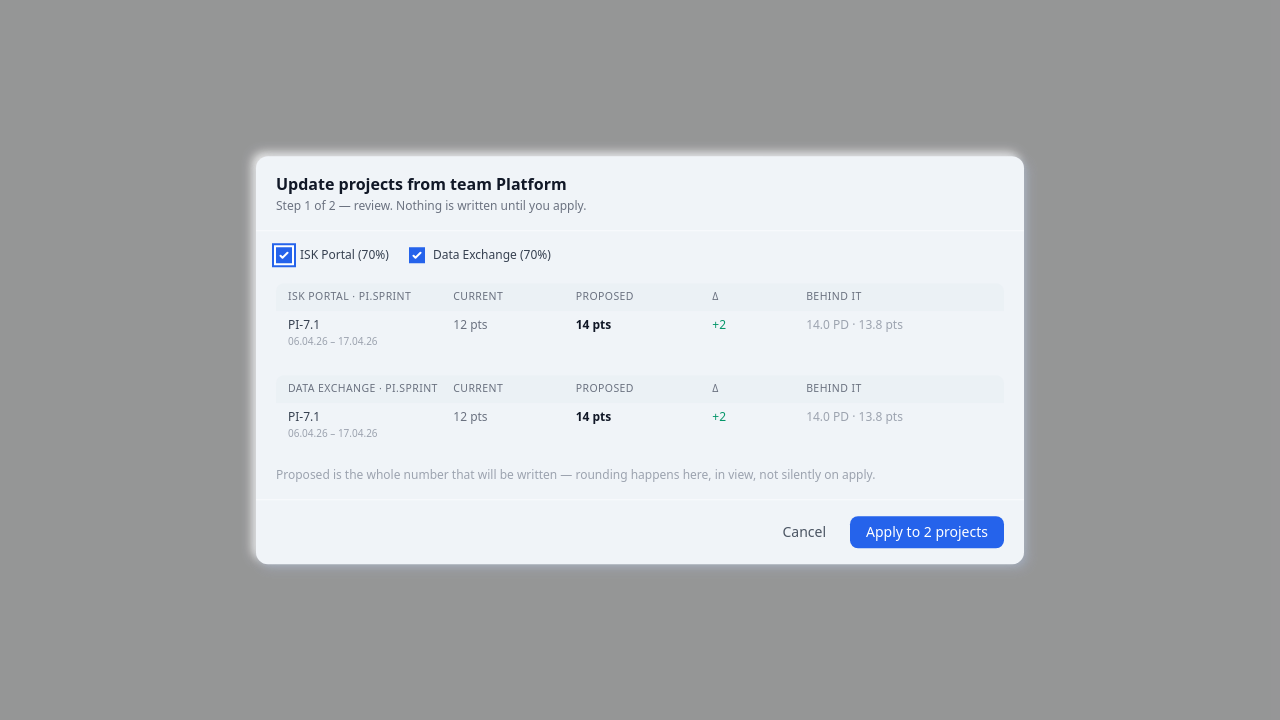
Scenario: PushProjectsModal › counts the ticked projects in the apply label
Expected: the button "Apply to 2 projects" is shown, [850,516,1004,548]
Click the checkbox labelled "Data Exchange (70%)" at (417,255), box [409,247,425,263]
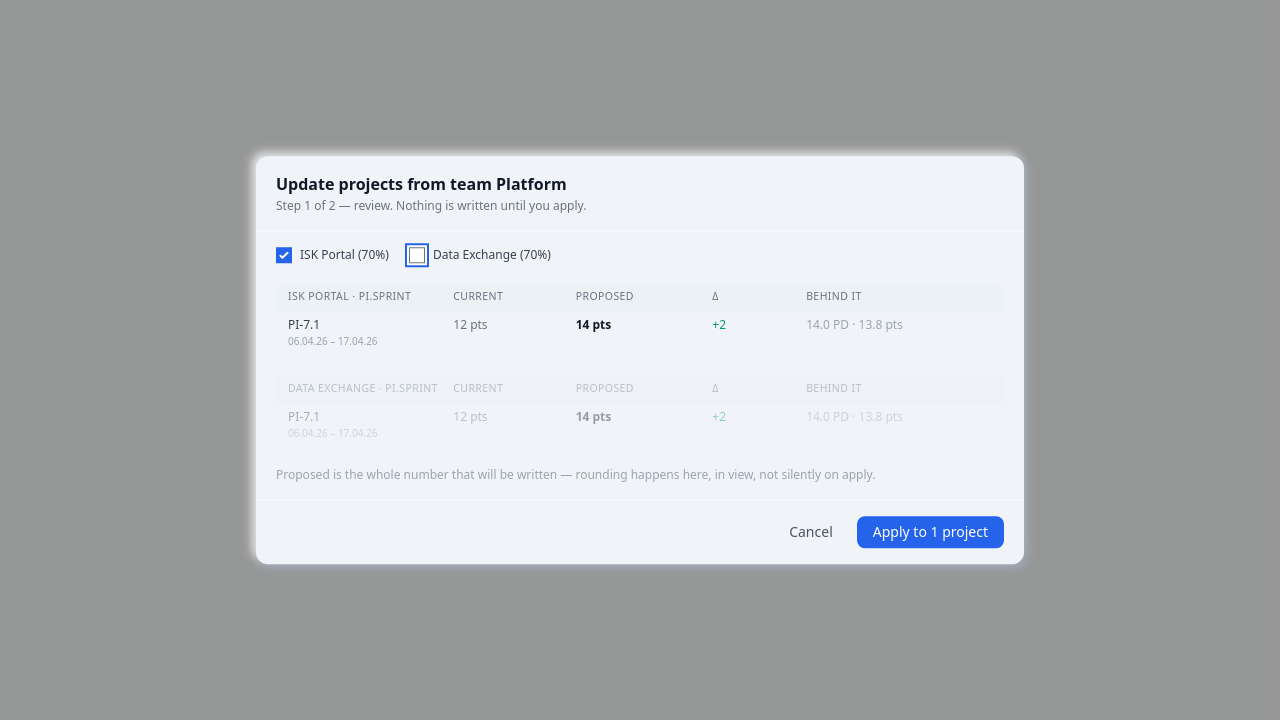
Result: the button "Apply to 1 project" is shown at [857,516,1004,548]
